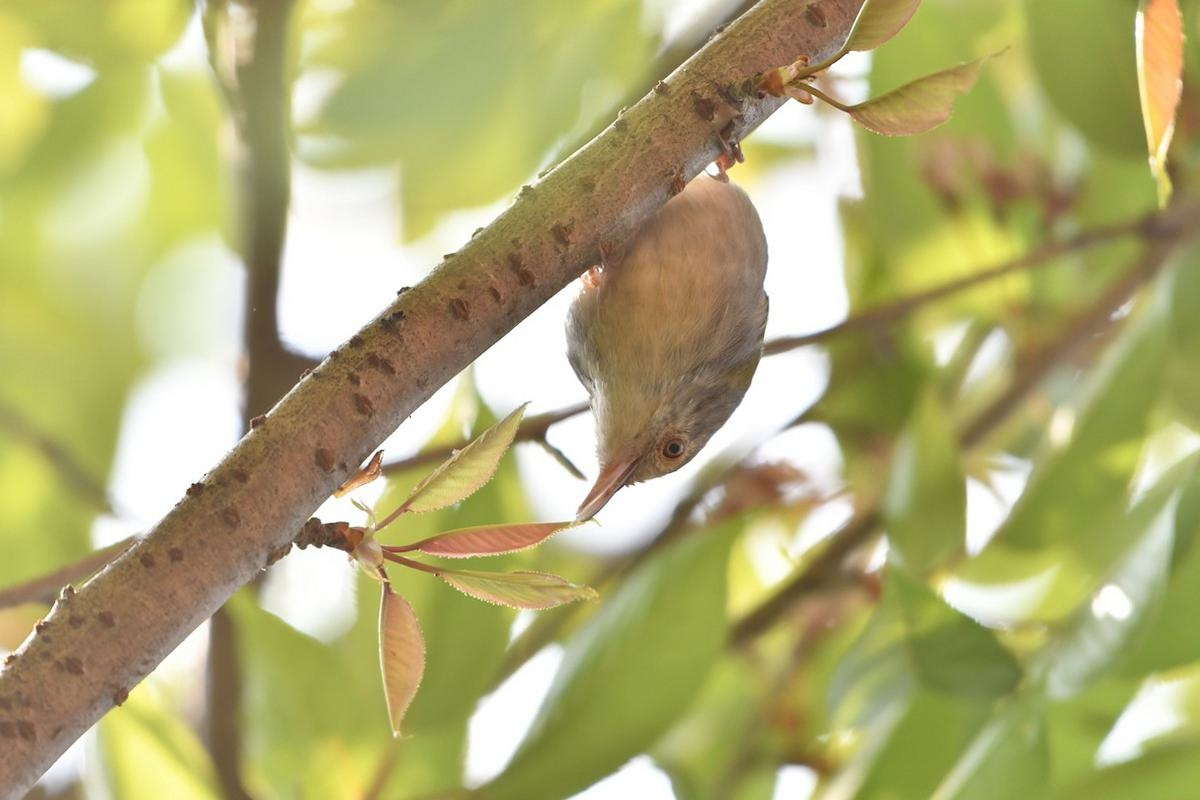tailorbird: (563, 74, 775, 544)
